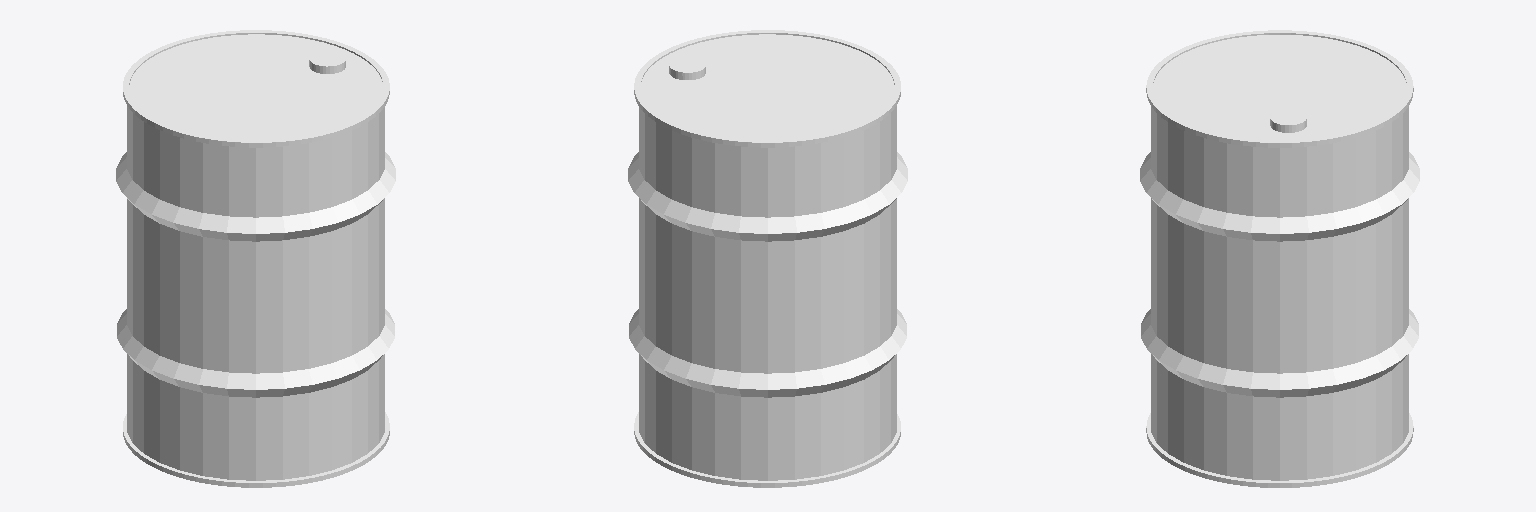
File: imp.obj
3 views of the same model, side by side, from view 1: azimuth 30°, elevation 25°; view 2: azimuth 150°, elevation 25°; view 3: azimuth 270°, elevation 25° (orthographic).
Parts seen in each view (by area): view 1: Object.1; view 2: Object.1; view 3: Object.1.
Part boxes in pixels (x1,y1,x2,y2): Object.1: (116,30,395,487); Object.1: (628,30,907,487); Object.1: (1140,30,1419,487).
Bounding box in the file's own units: 95.33 × 131 × 94.81.